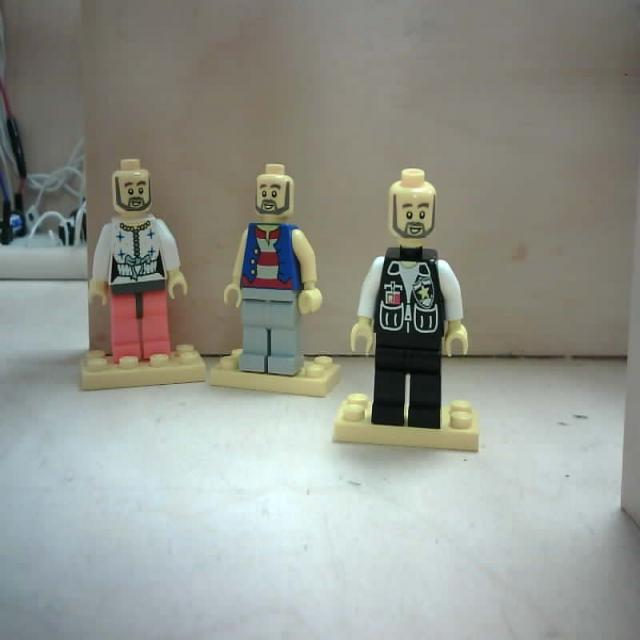Lego-People: (332, 169, 480, 458), (75, 159, 207, 394), (210, 165, 341, 401)
